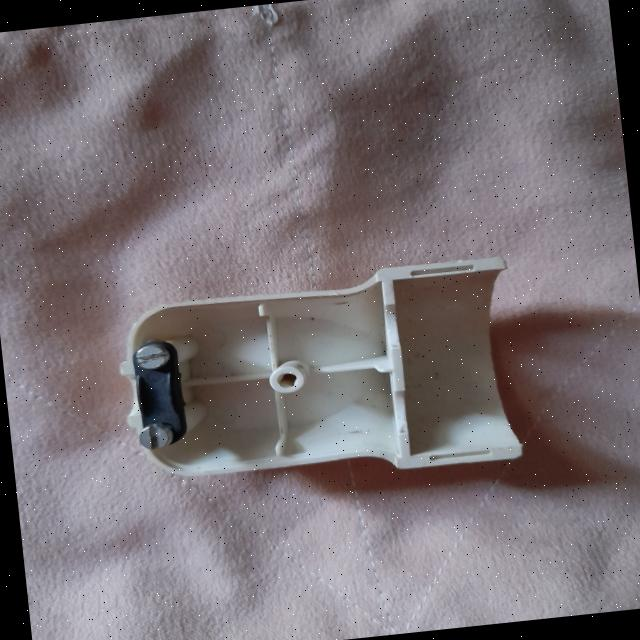Slotted: (135, 421, 170, 451), (134, 342, 168, 371)
